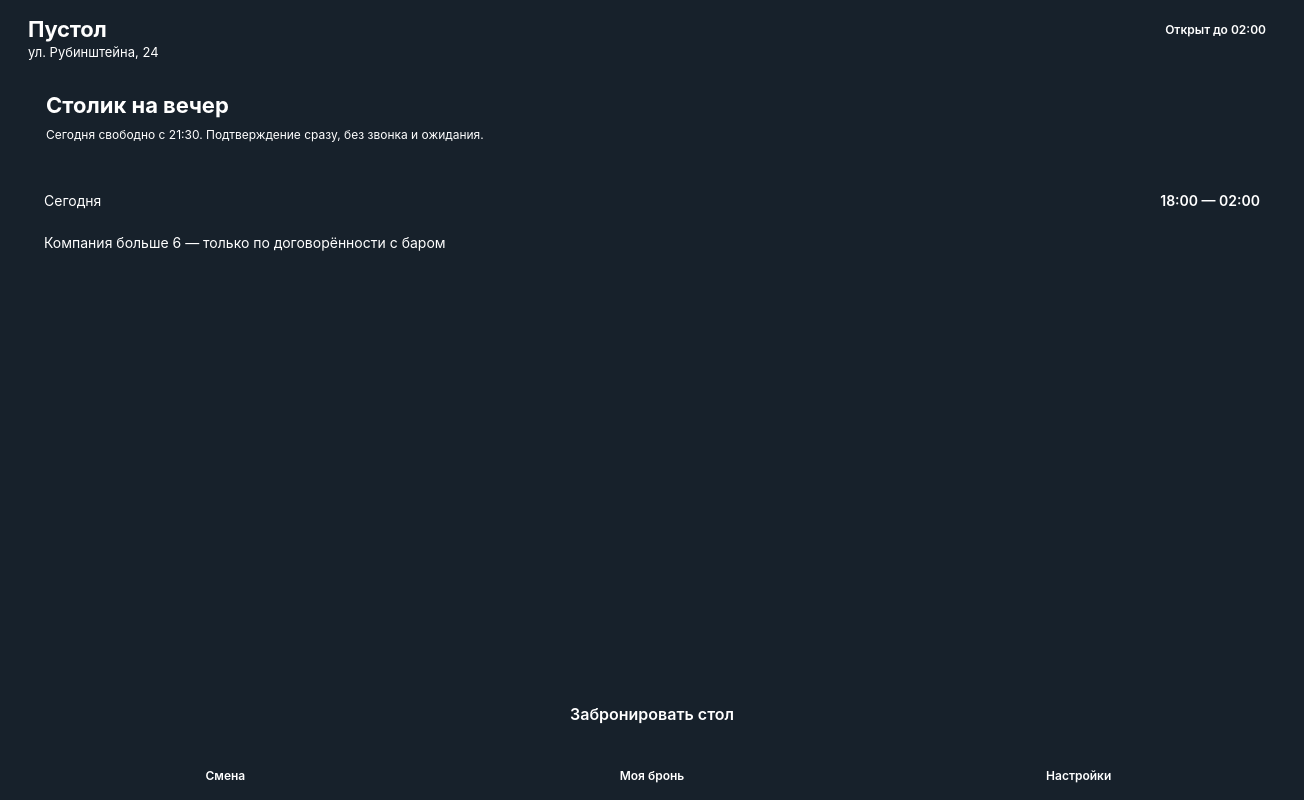
Test: a shift left open on the bar › goes by the server's evening, not the day this phone opened on, for what it offers
What coordinates should you click on to do the following:
click the button "Смена"
I would click on:
 (225, 774)
Its box is x1=12 y1=748 x2=439 y2=799.
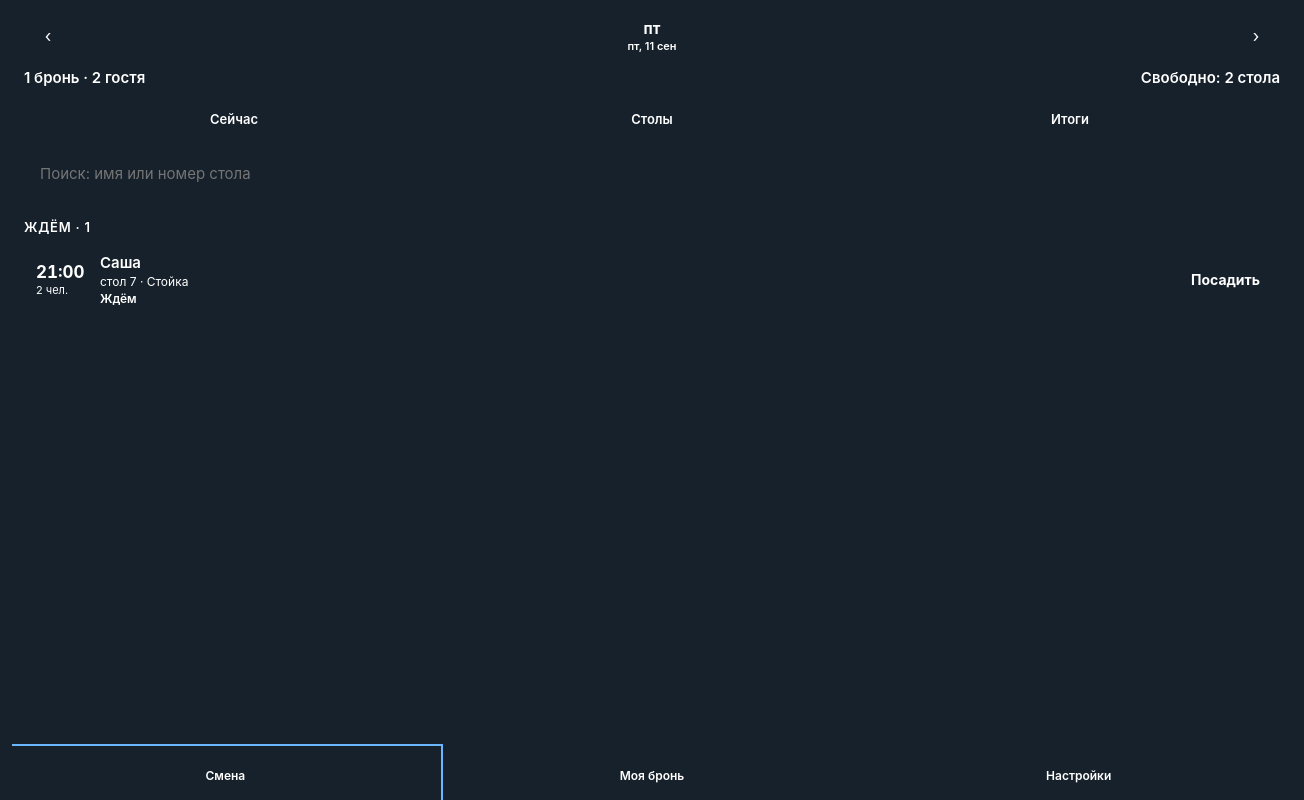
Check: the text "Посадить сейчас" is not shown
Check: the text "Саша" is shown, box x1=100 y1=253 x2=141 y2=272
What coordinates should you click on to do the following:
click the button named "Следующий день"
I would click on:
 (1256, 36)
Its box is x1=1232 y1=12 x2=1280 y2=60.
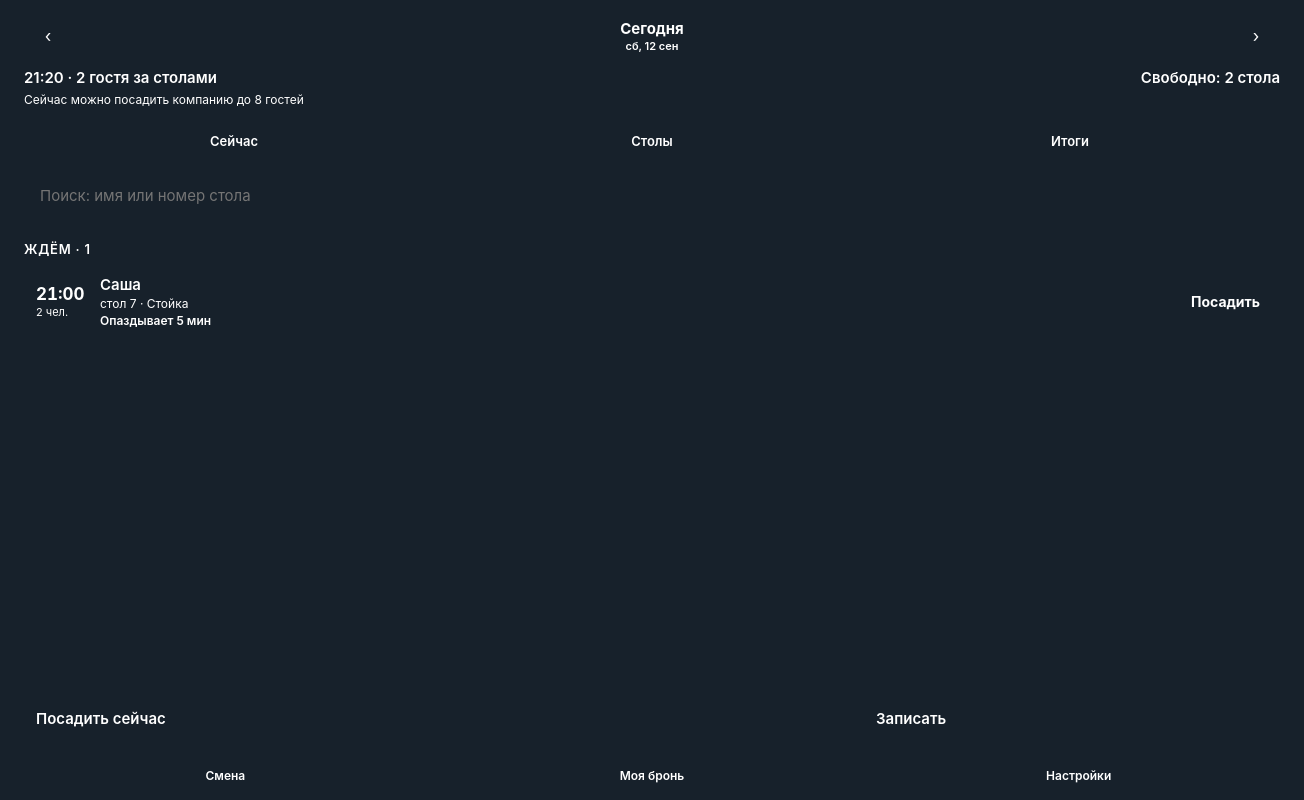
Check: the button "Посадить сейчас" is shown, box x1=24 y1=696 x2=178 y2=740
